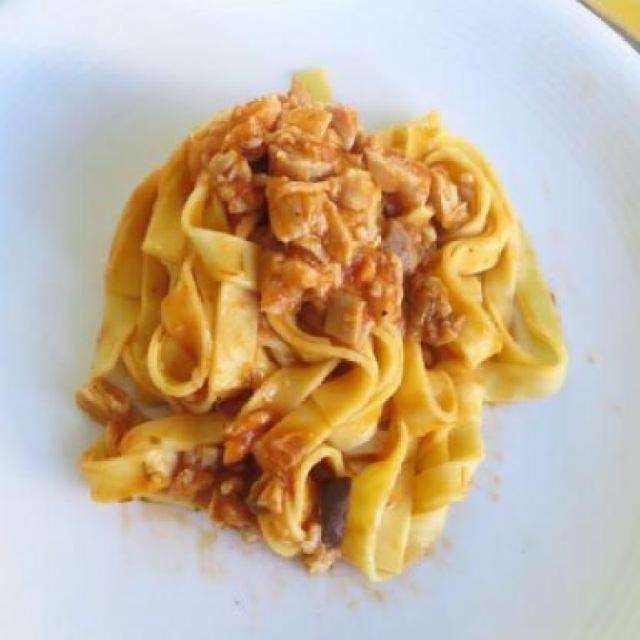Pasta al ragu: (73, 54, 544, 566)
